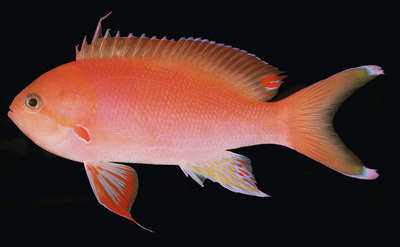fish: (7, 12, 385, 232)
